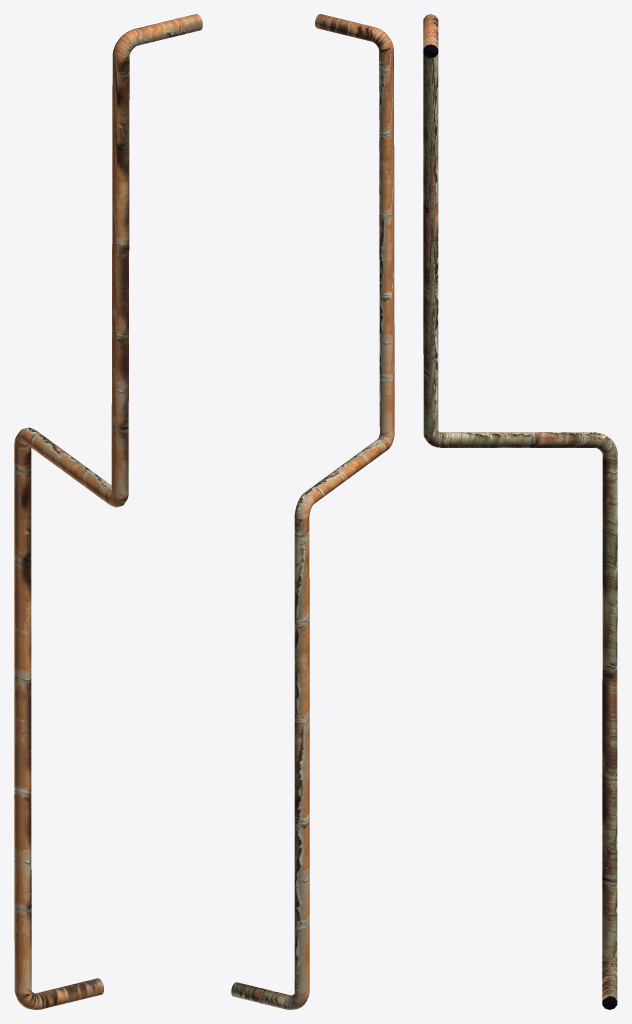
File: wallPipe1_500.fbx
3 views of the same model, side by side, from view 1: azimuth 30°, elevation 25°; view 2: azimuth 150°, elevation 25°; view 3: azimuth 270°, elevation 25° (orthographic). The views are drawn at different scales.
Visible parts, largest first — view 1: pipeE200; view 2: pipeE200; view 3: pipeE200.
Part boxes in pixels (<box>): pipeE200: <box>14,14,202,1009</box>; pipeE200: <box>231,14,394,1009</box>; pipeE200: <box>423,14,617,1009</box>.
Bounding box in the file's own units: 0.5333 × 6.23 × 1.14.
